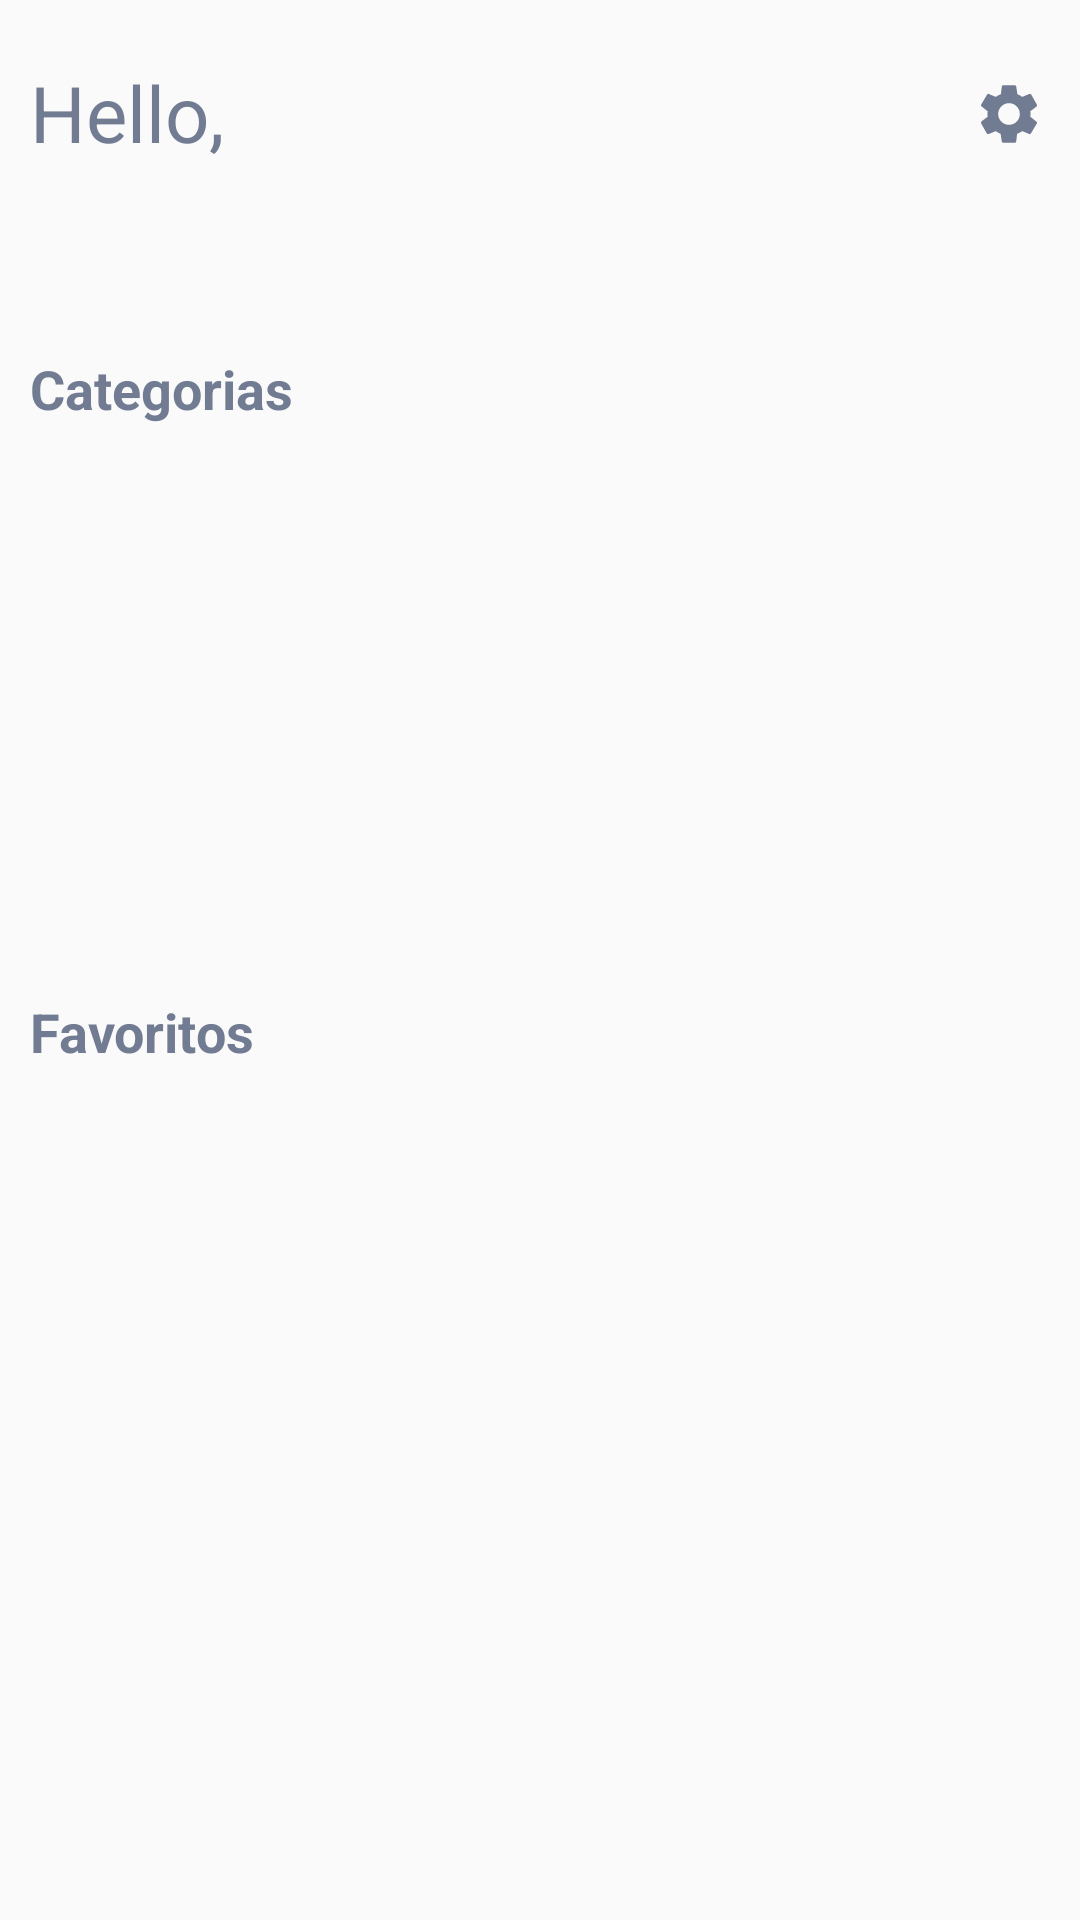

Screen size 1080px×1920px. Icon name, then its box in pixels as [x1=x1, y1=y1, x2=x2, y2=y2]:
settings: [x1=981, y1=85, x2=1037, y2=143]
